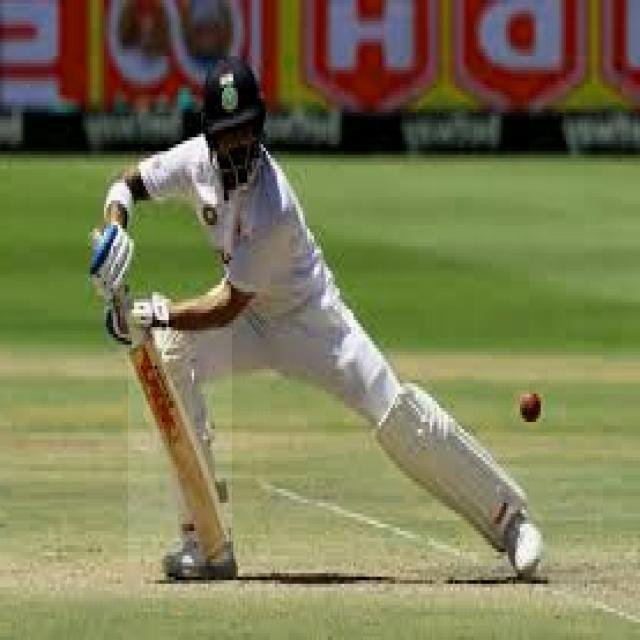bat: (131, 328, 239, 571)
toe: (195, 537, 237, 559)
